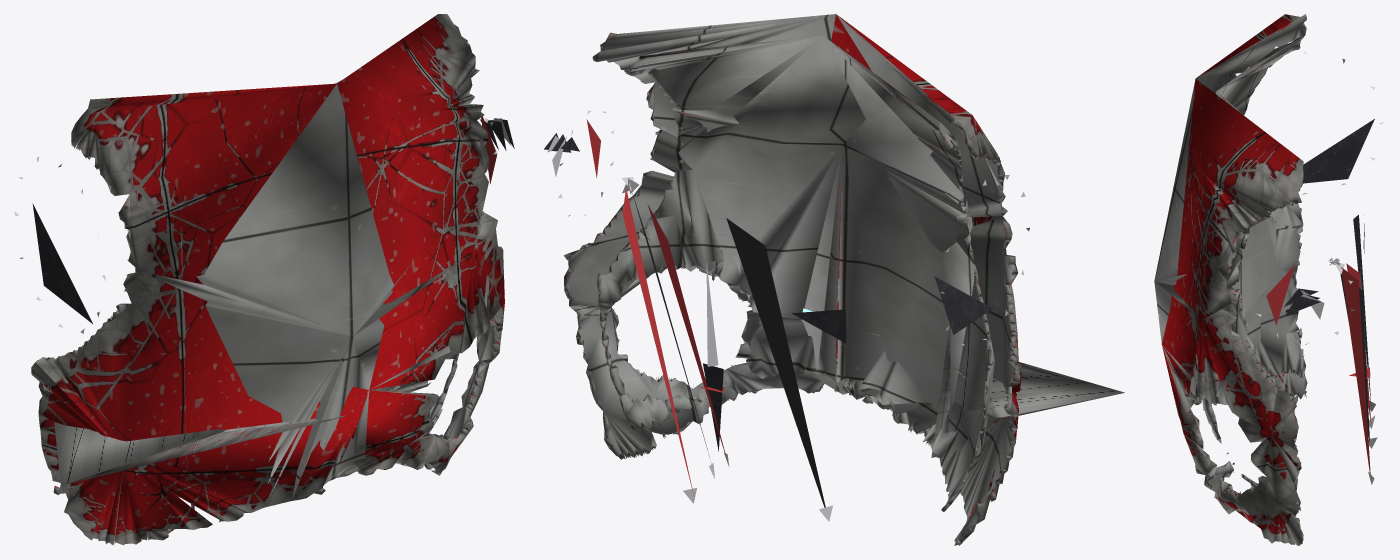
File: baymax_chest_armor_lod2.glb
3 renders of one model, left to right at view 1: azimuth 30°, elevation 25°; view 2: azimuth 150°, elevation 25°; view 3: azimuth 270°, elevation 25°, orthographic. The views are drawn at different scales.
Visible parts, largest first — view 1: baymax_chest_armor; view 2: baymax_chest_armor; view 3: baymax_chest_armor.
Part boxes in pixels (x1,y1,x2,y2): baymax_chest_armor: [14, 14, 514, 545]; baymax_chest_armor: [544, 14, 1124, 545]; baymax_chest_armor: [1154, 14, 1383, 545].
Size of the model in its own units: 1.41 by 1.19 by 0.6228.
8 materials, 4 textured.
